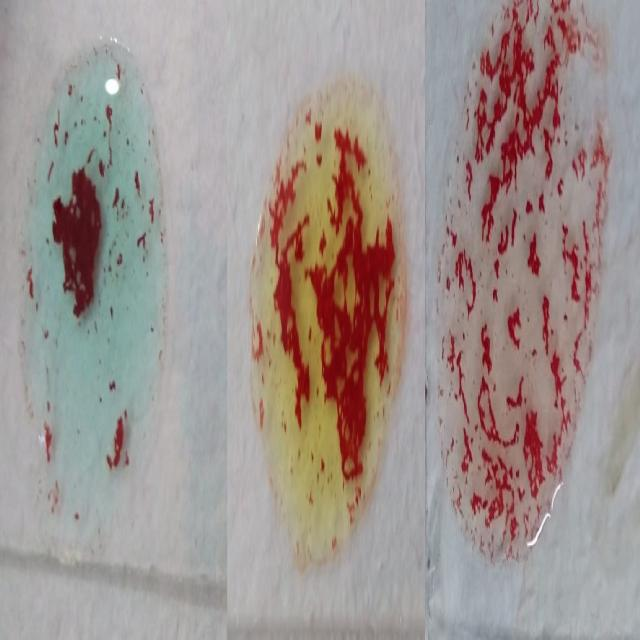A: (16, 45, 166, 518)
B: (252, 73, 403, 564)
D: (440, 9, 601, 566)
